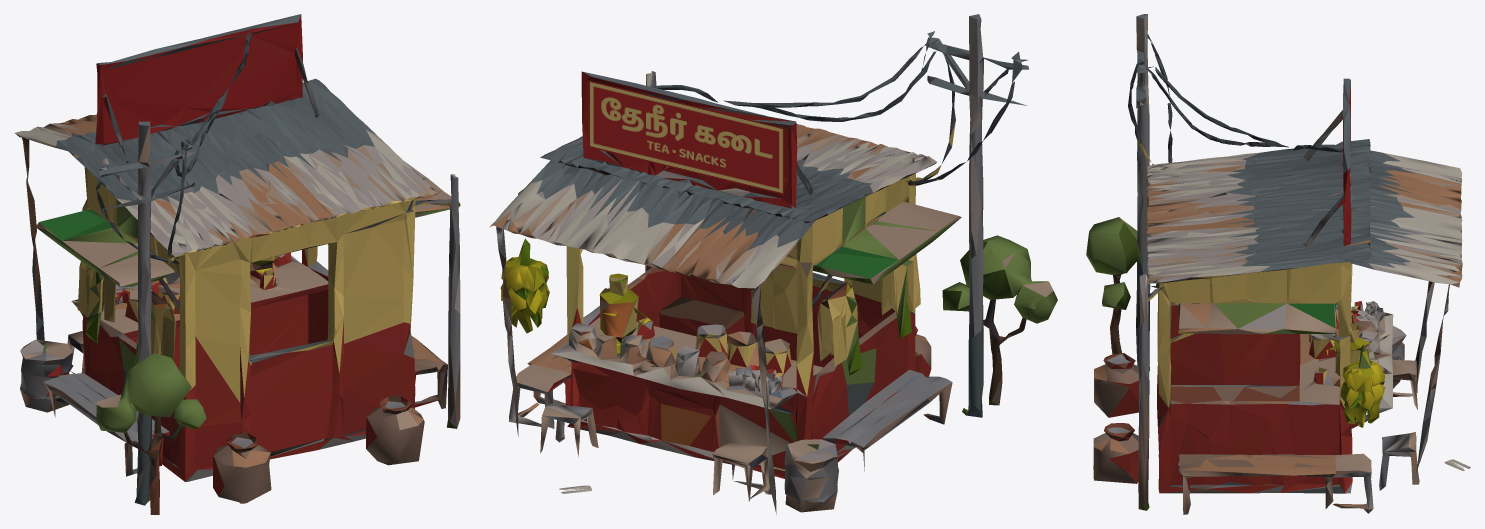
File: tea_stall_c.glb
The picture shows the model from 3 angles, left to right: view 1: azimuth 30°, elevation 25°; view 2: azimuth 150°, elevation 25°; view 3: azimuth 270°, elevation 25°; orthographic projection. The views are drawn at different scales.
Parts seen in each view (by area): view 1: stall; view 2: stall, sign; view 3: stall.
Part boxes in pixels (x1,y1,x2,y2): stall: (15,14,460,514); stall: (490,14,1057,514); sign: (588,80,783,194); stall: (1086,14,1470,514).
Bounding box in the file's own units: 3.83 × 3.51 × 3.46.
2 materials, 1 textured.
